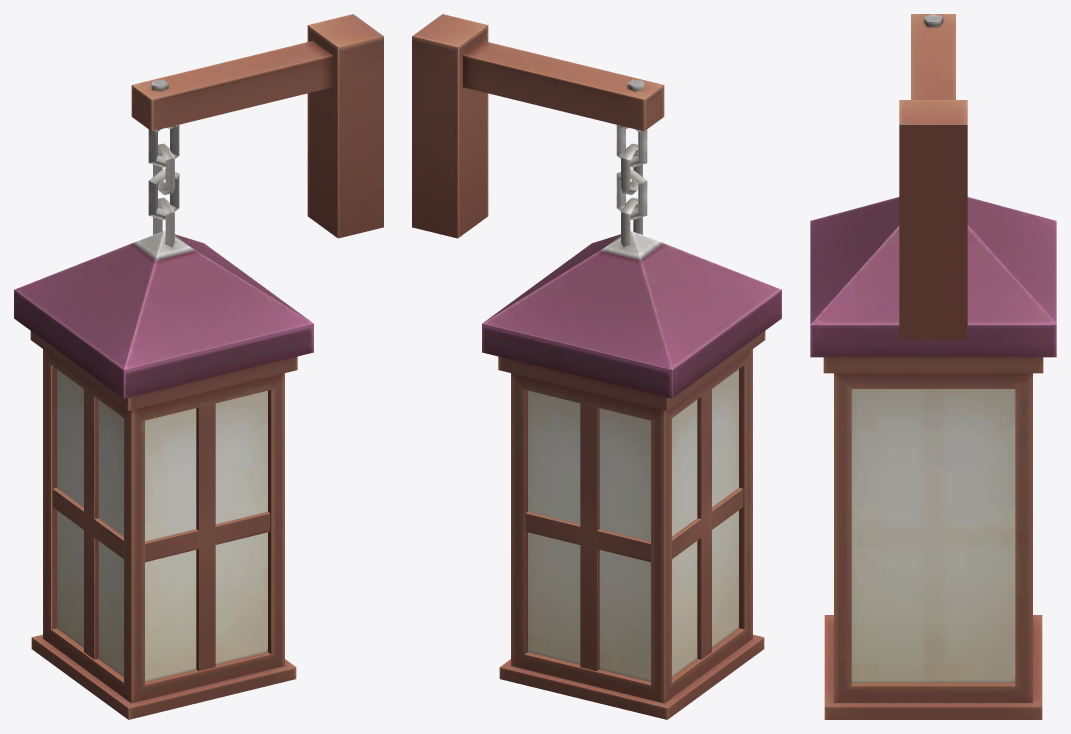
Rendered from my_hyakkiyako_01_lantern_01.glb.
The picture shows the model from 3 angles, left to right: view 1: azimuth 30°, elevation 25°; view 2: azimuth 150°, elevation 25°; view 3: azimuth 270°, elevation 25°; orthographic projection. The views are drawn at different scales.
Parts seen in each view (by area): view 1: my_hyakkiyako_01_lantern_01; view 2: my_hyakkiyako_01_lantern_01; view 3: my_hyakkiyako_01_lantern_01.
Boxes of the visible parts, left/top/right/bottom form: my_hyakkiyako_01_lantern_01: left=14, top=14, right=383, bottom=719; my_hyakkiyako_01_lantern_01: left=412, top=14, right=781, bottom=719; my_hyakkiyako_01_lantern_01: left=810, top=14, right=1056, bottom=719.
Size of the model in its own units: 0.00553 by 0.0104 by 0.00351.
2 materials, 2 textured.
